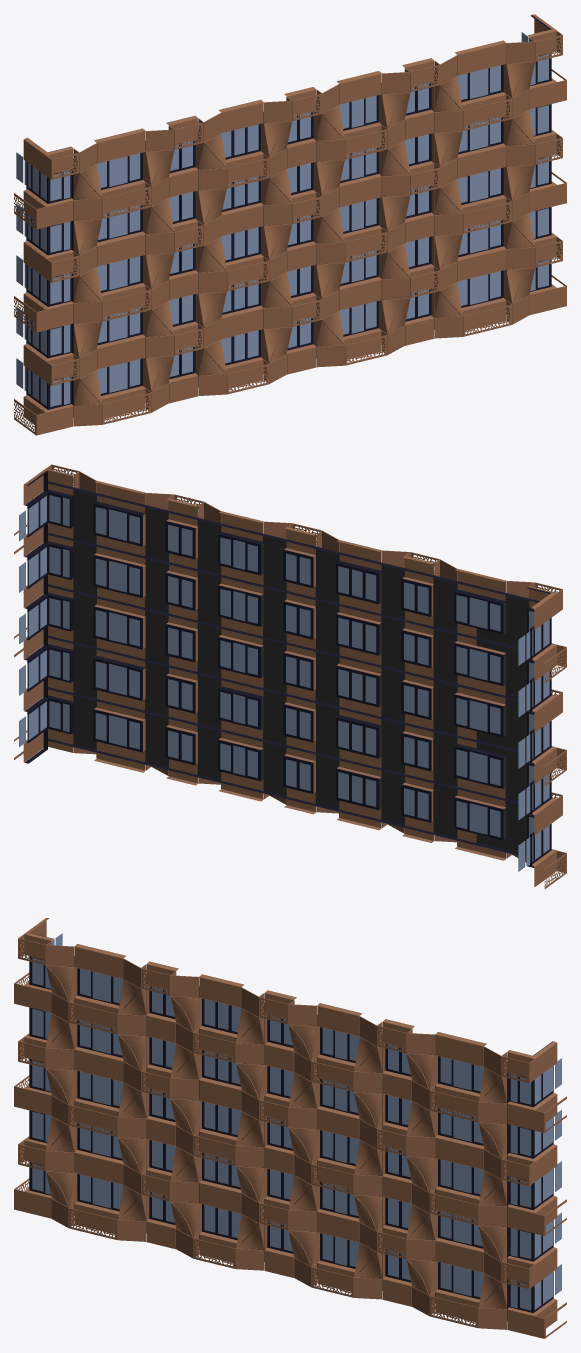
3 views of the same model, one above another, from view 1: azimuth 30°, elevation 25°; view 2: azimuth 150°, elevation 25°; view 3: azimuth 330°, elevation 25° (orthographic).
Parts seen in each view (by area): view 1: 07 Стекло_СТК_Стекло по ГОСТ.001, Ramy_111.001, 05 Металл_СТЛ_Отлив_RAL 7024 Графит_290, Line198.001, Line195.001, Line191.001, Line201.001, Line197.001, Line194.001, 08 ВЗ_Воздушный зазор.001, Generic.001, Curve_Panel_174.001 (+45 smaller); view 2: 08 ВЗ_Воздушный зазор.001, 07 Стекло_СТК_Стекло по ГОСТ.001, 05 Металл_СТЛ_Отлив_RAL 7024 Графит_290, Generic.001, Line191.001, Ramy_111.001, Line201.001, Line194.001, Line197.001, Line198.001, Line195.001; view 3: 07 Стекло_СТК_Стекло по ГОСТ.001, Ramy_111.001, 05 Металл_СТЛ_Отлив_RAL 7024 Графит_290, Line191.001, Line195.001, Line198.001, Line201.001, Line197.001, Line194.001, 08 ВЗ_Воздушный зазор.001, Generic.001, Curve_Panel_216.001 (+45 smaller).
Boxes of the visible parts, x1=… form: 07 Стекло_СТК_Стекло по ГОСТ.001: x1=16, y1=32, x2=548, y2=406; Ramy_111.001: x1=24, y1=14, x2=556, y2=418; 05 Металл_СТЛ_Отлив_RAL 7024 Графит_290: x1=27, y1=52, x2=551, y2=409; Line198.001: x1=14, y1=172, x2=566, y2=332; Line195.001: x1=14, y1=69, x2=566, y2=229; Line191.001: x1=23, y1=19, x2=562, y2=179; Line201.001: x1=14, y1=275, x2=566, y2=435; Line197.001: x1=23, y1=237, x2=562, y2=385; Line194.001: x1=23, y1=134, x2=562, y2=282; 08 ВЗ_Воздушный зазор.001: x1=73, y1=63, x2=528, y2=417; Generic.001: x1=25, y1=15, x2=551, y2=404; Curve_Panel_174.001: x1=506, y1=62, x2=534, y2=97; 08 ВЗ_Воздушный зазор.001: x1=48, y1=489, x2=531, y2=854; 07 Стекло_СТК_Стекло по ГОСТ.001: x1=19, y1=495, x2=549, y2=871; 05 Металл_СТЛ_Отлив_RAL 7024 Графит_290: x1=28, y1=492, x2=551, y2=863; Generic.001: x1=24, y1=471, x2=553, y2=867; Line191.001: x1=23, y1=464, x2=562, y2=629; Ramy_111.001: x1=24, y1=468, x2=556, y2=866; Line201.001: x1=14, y1=729, x2=566, y2=889; Line194.001: x1=23, y1=574, x2=562, y2=732; Line197.001: x1=23, y1=677, x2=562, y2=835; Line198.001: x1=14, y1=626, x2=566, y2=786; Line195.001: x1=14, y1=523, x2=566, y2=683; 07 Стекло_СТК_Стекло по ГОСТ.001: x1=32, y1=933, x2=561, y2=1310; Ramy_111.001: x1=24, y1=918, x2=556, y2=1322; 05 Металл_СТЛ_Отлив_RAL 7024 Графит_290: x1=29, y1=956, x2=553, y2=1312; Line191.001: x1=18, y1=918, x2=557, y2=1083; Line195.001: x1=14, y1=972, x2=566, y2=1132; Line198.001: x1=14, y1=1075, x2=566, y2=1235; Line201.001: x1=14, y1=1178, x2=566, y2=1338; Line197.001: x1=18, y1=1136, x2=557, y2=1289; Line194.001: x1=18, y1=1033, x2=557, y2=1186; 08 ВЗ_Воздушный зазор.001: x1=51, y1=958, x2=507, y2=1320; Generic.001: x1=31, y1=933, x2=553, y2=1308; Curve_Panel_216.001: x1=354, y1=1092, x2=382, y2=1128.
Size of the model in its own units: 32.38 by 16.24 by 4.2.
